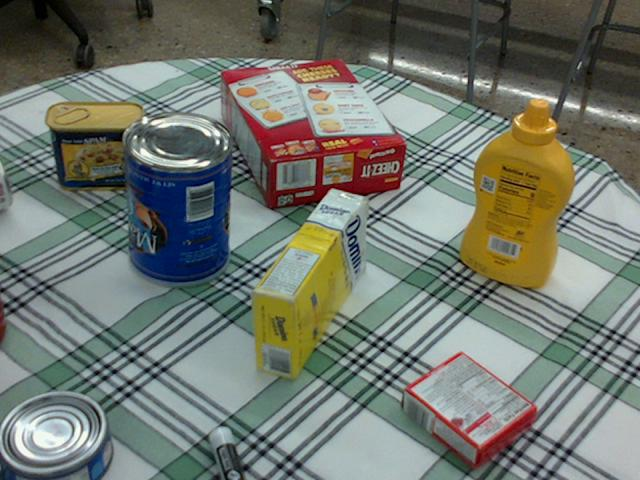cracker_box: (219, 60, 405, 203)
gelatin_box: (401, 352, 534, 470)
large_marker: (208, 427, 243, 479)
master_chef_can: (118, 111, 230, 287)
mug: (0, 299, 3, 334)
mustard_bottle: (459, 98, 573, 286)
potted_meat_can: (46, 102, 145, 190)
sugar_box: (250, 189, 366, 379)
tomato_soup_can: (0, 164, 9, 208)
tuna_fish_can: (0, 391, 108, 479)
